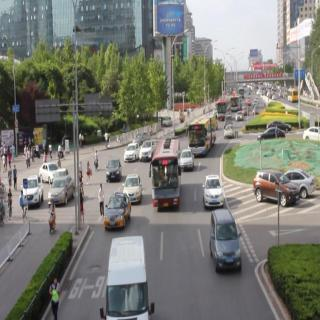Car: (103, 233, 164, 320), (148, 140, 184, 216), (253, 164, 293, 227), (208, 214, 249, 272), (188, 109, 232, 159), (279, 156, 317, 205), (105, 195, 137, 232), (21, 170, 43, 214), (256, 122, 286, 154), (122, 171, 148, 206), (199, 171, 221, 210), (102, 156, 127, 190), (262, 110, 291, 136), (51, 171, 71, 207), (299, 120, 320, 148), (40, 156, 61, 182), (121, 142, 142, 166), (180, 147, 196, 171), (159, 112, 177, 130), (139, 145, 155, 163), (234, 109, 249, 126), (226, 122, 240, 138), (136, 128, 146, 148)
